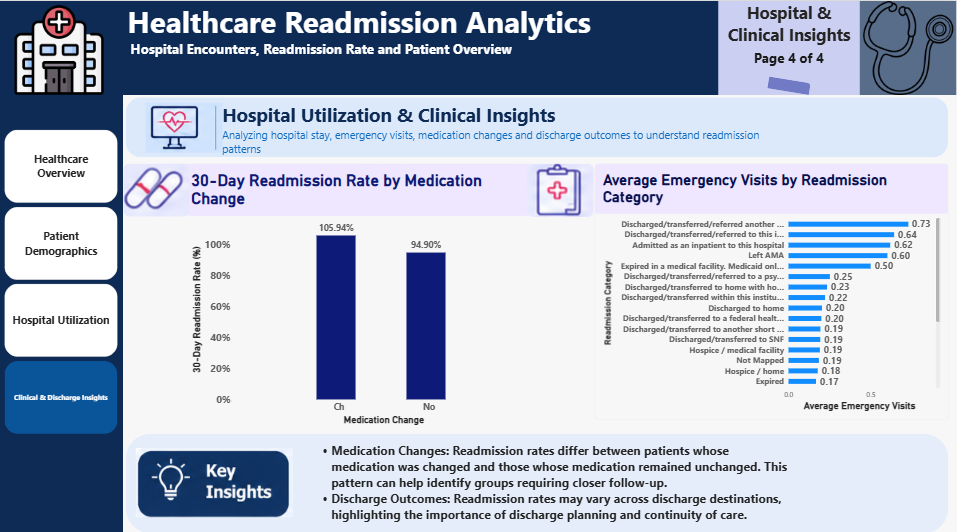

This screenshot's page, from the dashboard's own definition file:
{"tool":"powerbi","page":{"name":"Clinical & Discharge Insights","canvas":[1920,1080],"ordinal":3},"visuals":[{"type":"textbox","box":[245.2,0,1673.8,188.1],"z":0},{"type":"image","box":[0,0,214.3,1081],"z":1000},{"type":"image","box":[19,0,259.5,1081],"z":2000},{"type":"image","box":[35.7,7.1,178.6,181],"z":3000},{"type":"image","box":[1724.4,0,195.1,187.8],"z":4000},{"type":"shape","title":"Hospital & Clinical Insights","box":[1441.5,0,282.9,187.8],"z":5000},{"type":"clusteredColumnChart","title":"30-Day Readmission Rate by Medication Change","fields":{"Category":["healthcare_readmission_analytics readmissions.change"],"Y":["healthcare_readmission_analytics readmissions.30-Day Readmission Rate"]},"box":[371.4,326.2,714.3,538.1],"z":6000},{"type":"shape","title":"Patient Demographics","box":[258.1,193.6,1644.8,120.3],"z":7000},{"type":"textbox","box":[450,252,1078,118],"z":8000},{"type":"image","box":[296.5,191.9,153.5,122.1],"z":9000},{"type":"barChart","title":"Average Emergency Visits by Readmission Category","fields":{"Category":["IDS_mapping.description"],"Y":["Avg(healthcare_readmission_analytics readmissions.number_emergency)"]},"box":[1194,326,708,512],"z":10000},{"type":"image","box":[252.6,324.7,132.3,106.2],"z":11000},{"type":"image","box":[1059.5,326.2,133.3,107.1],"z":12000},{"type":"shape","title":"Patient Demographics","box":[257.1,864.3,1645.2,200],"z":13000},{"type":"image","box":[278.6,850,314.3,226.2],"z":14000},{"type":"textbox","box":[633.3,883.3,947.6,181],"z":15000},{"type":"pageNavigator","box":[14,258,226,610],"z":15001}]}

Visuals, with their boxes in screenshot pixels (x1, y1, x2, y2), scaled from the page's 1920x1080 canvas onto the 957x532 screenshot:
textbox: <region>122, 0, 956, 93</region>
image: <region>0, 0, 107, 531</region>
image: <region>9, 0, 139, 531</region>
image: <region>18, 3, 107, 93</region>
image: <region>860, 0, 956, 93</region>
"Hospital & Clinical Insights" shape: <region>718, 0, 860, 93</region>
"30-Day Readmission Rate by Medication Change" clusteredColumnChart: <region>185, 161, 541, 426</region>
"Patient Demographics" shape: <region>129, 95, 948, 155</region>
textbox: <region>224, 124, 762, 182</region>
image: <region>148, 95, 224, 155</region>
"Average Emergency Visits by Readmission Category" barChart: <region>595, 161, 948, 413</region>
image: <region>126, 160, 192, 212</region>
image: <region>528, 161, 595, 213</region>
"Patient Demographics" shape: <region>128, 426, 948, 524</region>
image: <region>139, 419, 296, 530</region>
textbox: <region>316, 435, 788, 524</region>
pageNavigator: <region>7, 127, 120, 428</region>
